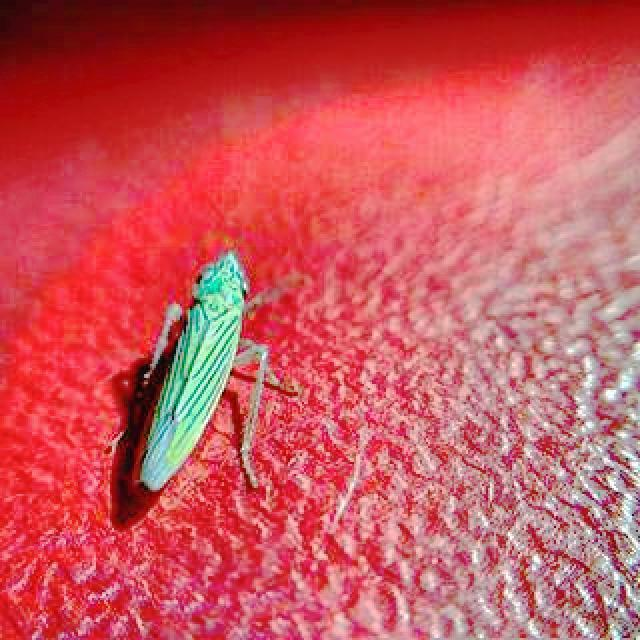green-leafhopper: (131, 247, 293, 497)
